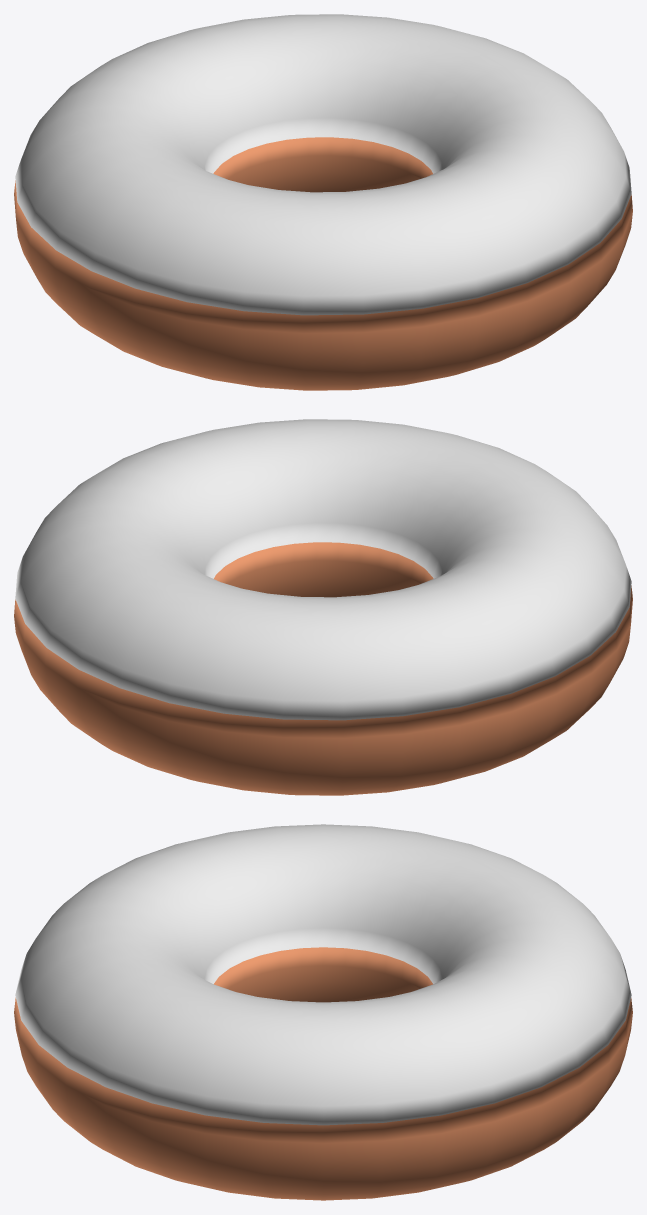
File: Ponchik.fbx
The picture shows the model from 3 angles, top to bottom: view 1: azimuth 30°, elevation 25°; view 2: azimuth 150°, elevation 25°; view 3: azimuth 270°, elevation 25°; orthographic projection.
Visible parts, largest first — view 1: Torus; view 2: Torus; view 3: Torus.
Boxes of the visible parts, x1=… form: Torus: x1=14, y1=14, x2=632, y2=390; Torus: x1=14, y1=419, x2=632, y2=795; Torus: x1=14, y1=824, x2=632, y2=1200.
Size of the model in its own units: 1.56 by 0.5002 by 1.56.
